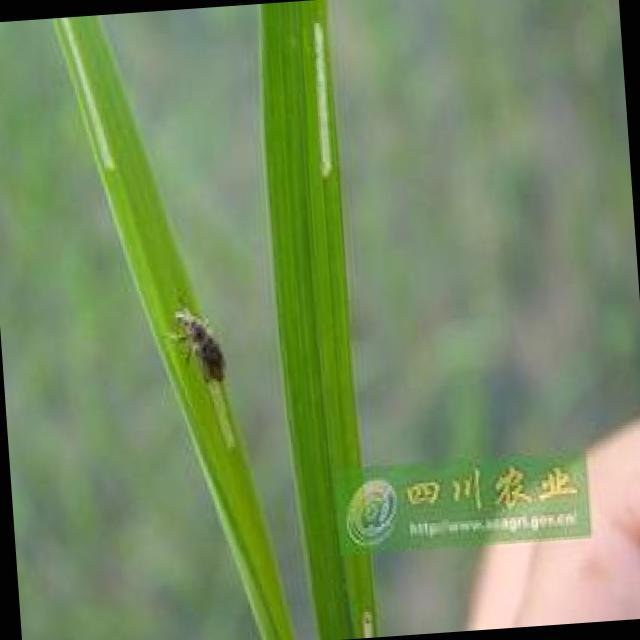ricebug: (176, 309, 224, 381)
